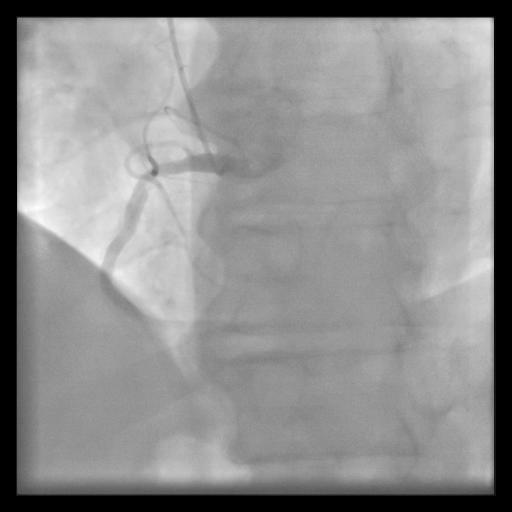Stenosis: (139, 162, 172, 182)
